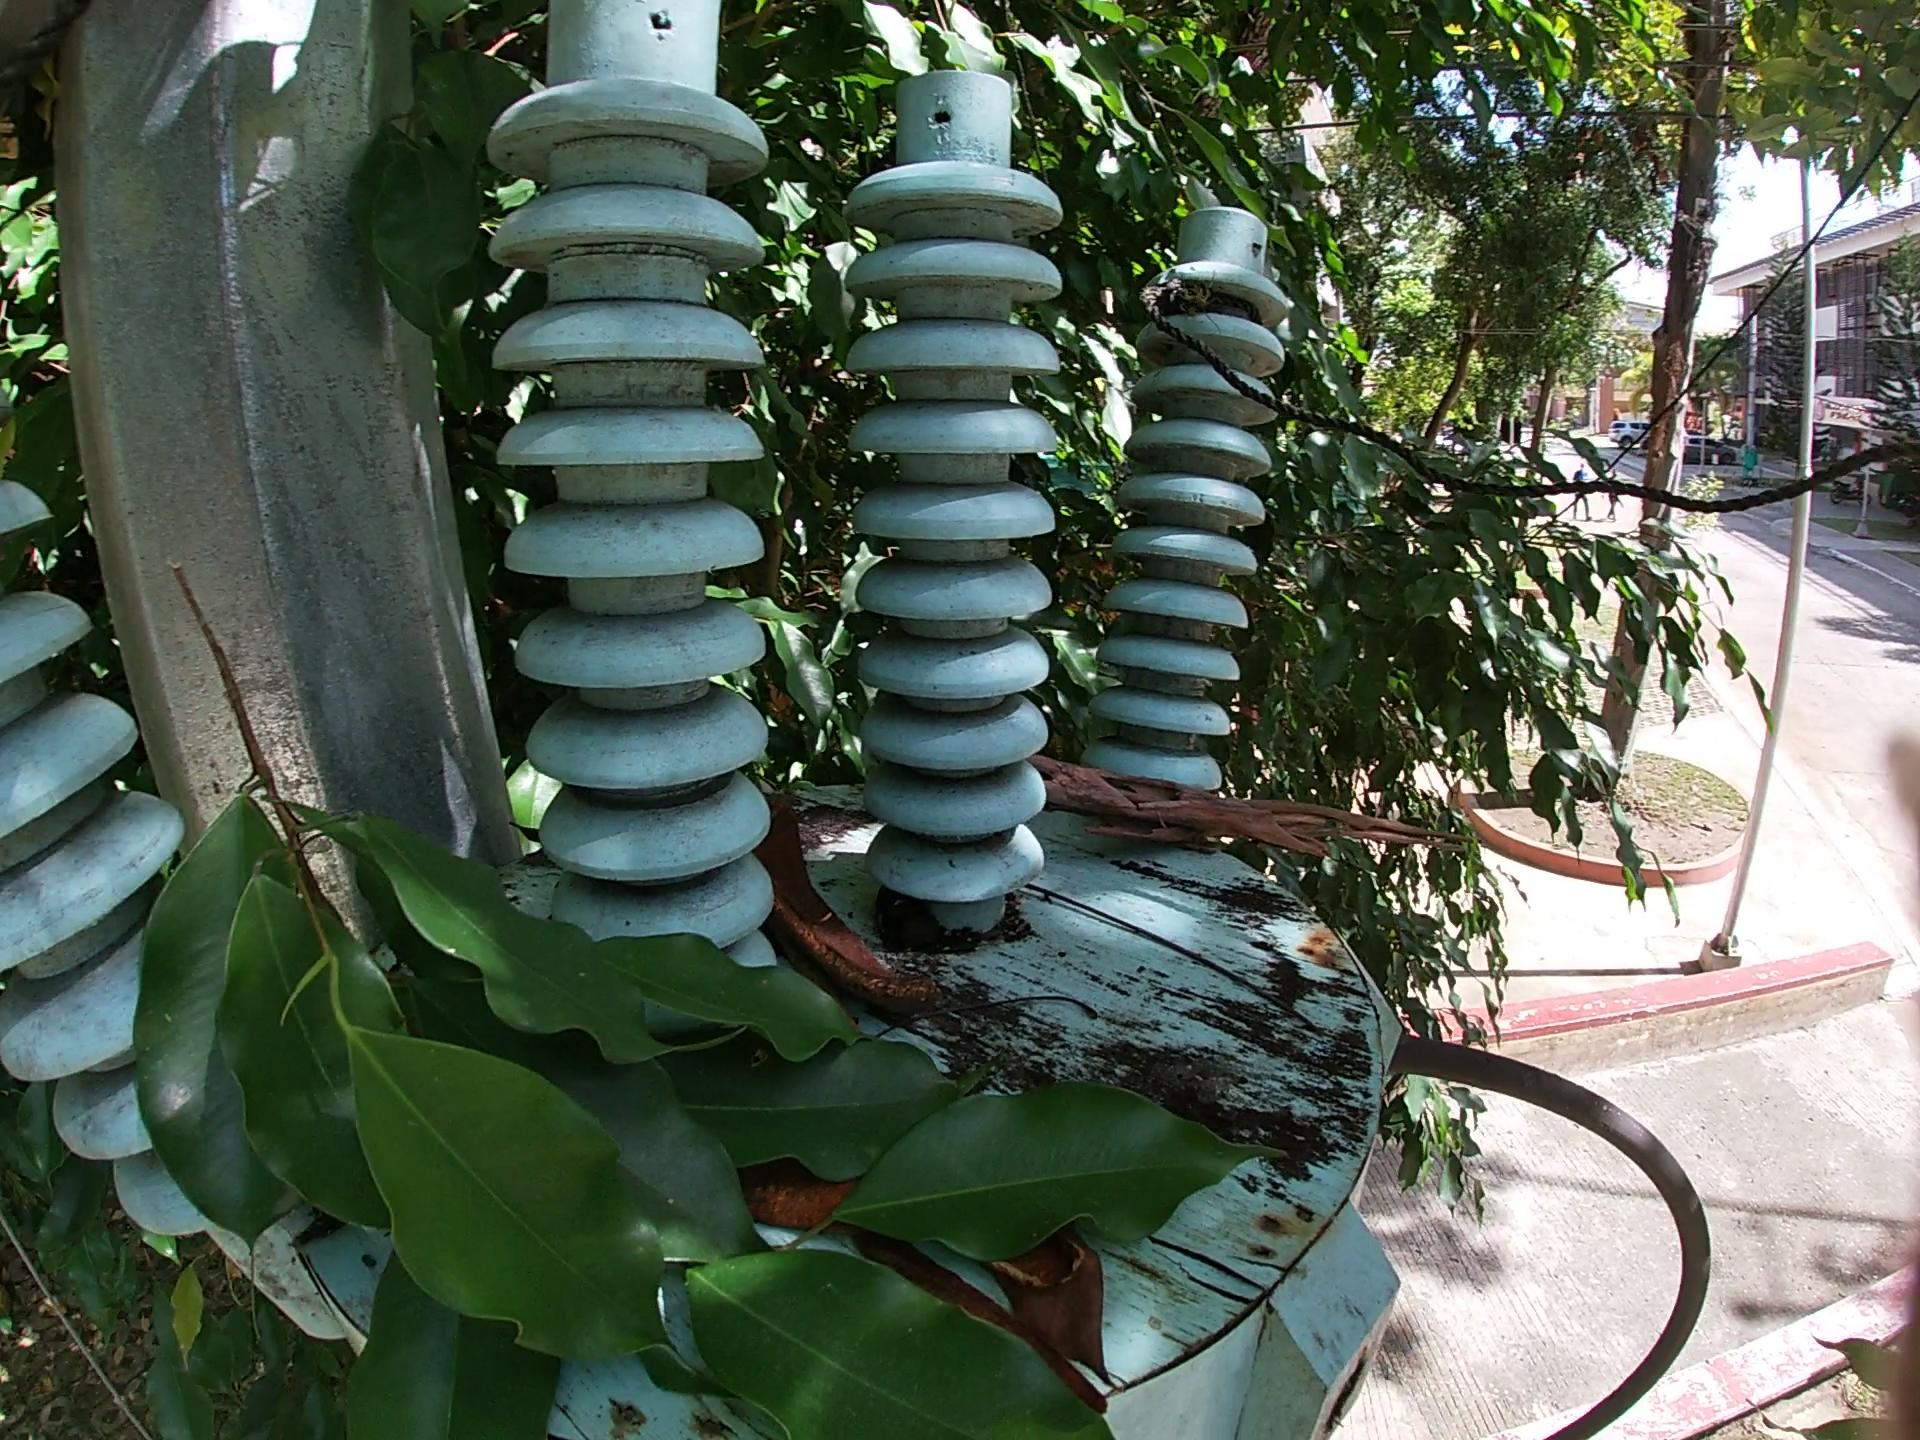branch with leaves: (124, 548, 1311, 1422)
mahogany fruit: (727, 1165, 1160, 1395), (757, 788, 955, 1044)
tree branch: (1013, 738, 1562, 877), (1016, 867, 1342, 1044)
